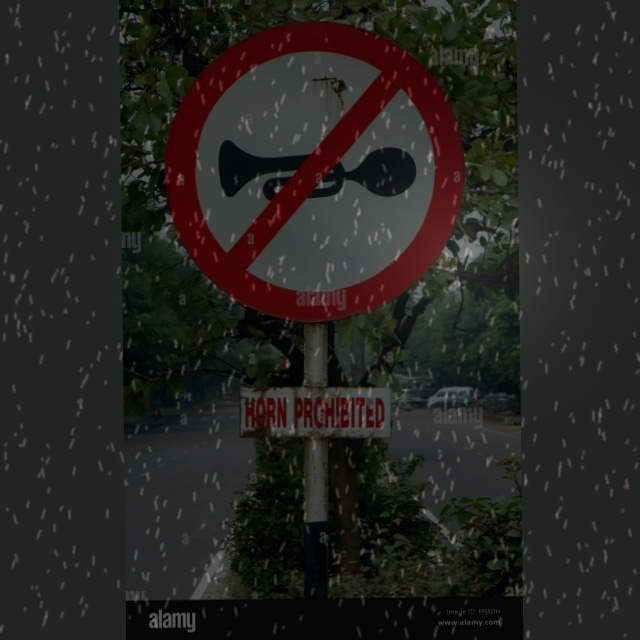Horn_Prohibited: (173, 24, 464, 315)
